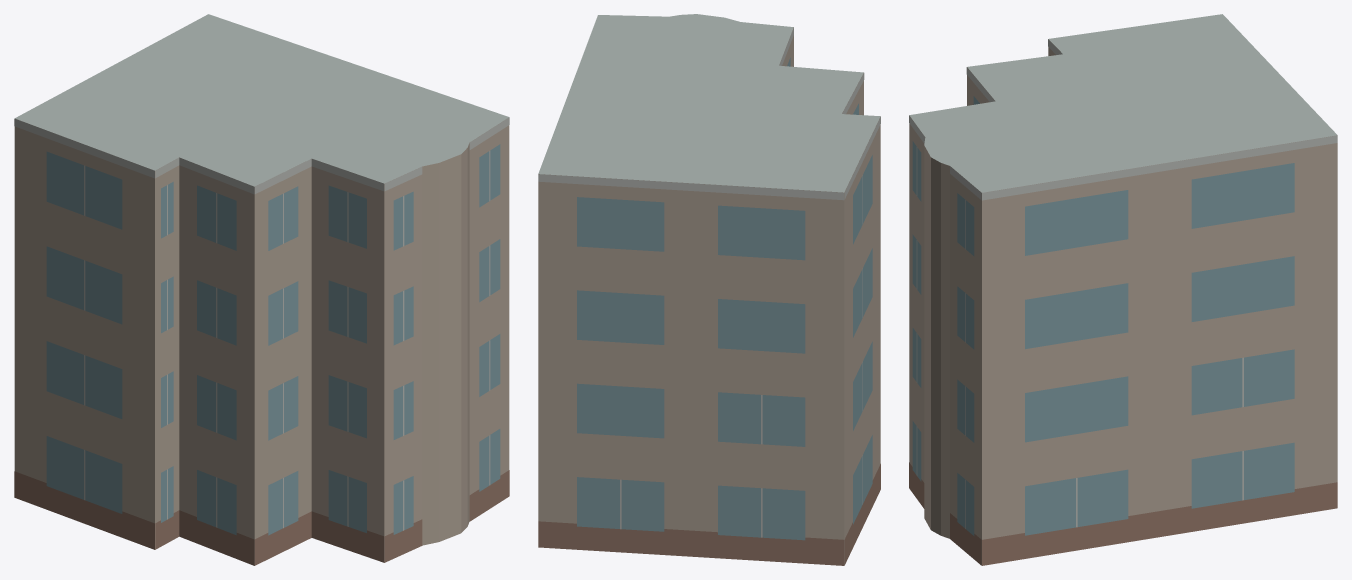
Rendered from survey-upis-32512390.glb.
3 renders of one model, left to right at view 1: azimuth 30°, elevation 25°; view 2: azimuth 150°, elevation 25°; view 3: azimuth 270°, elevation 25°, orthographic.
Parts seen in each view (by area): view 1: survey-upis-32512390.tmp; view 2: survey-upis-32512390.tmp; view 3: survey-upis-32512390.tmp.
Boxes of the visible parts, x1,y1,x2,y2 form: survey-upis-32512390.tmp: (14, 14, 509, 565); survey-upis-32512390.tmp: (538, 14, 880, 565); survey-upis-32512390.tmp: (909, 14, 1337, 565).
Size of the model in its own units: 12.14 by 11.8 by 12.3.
